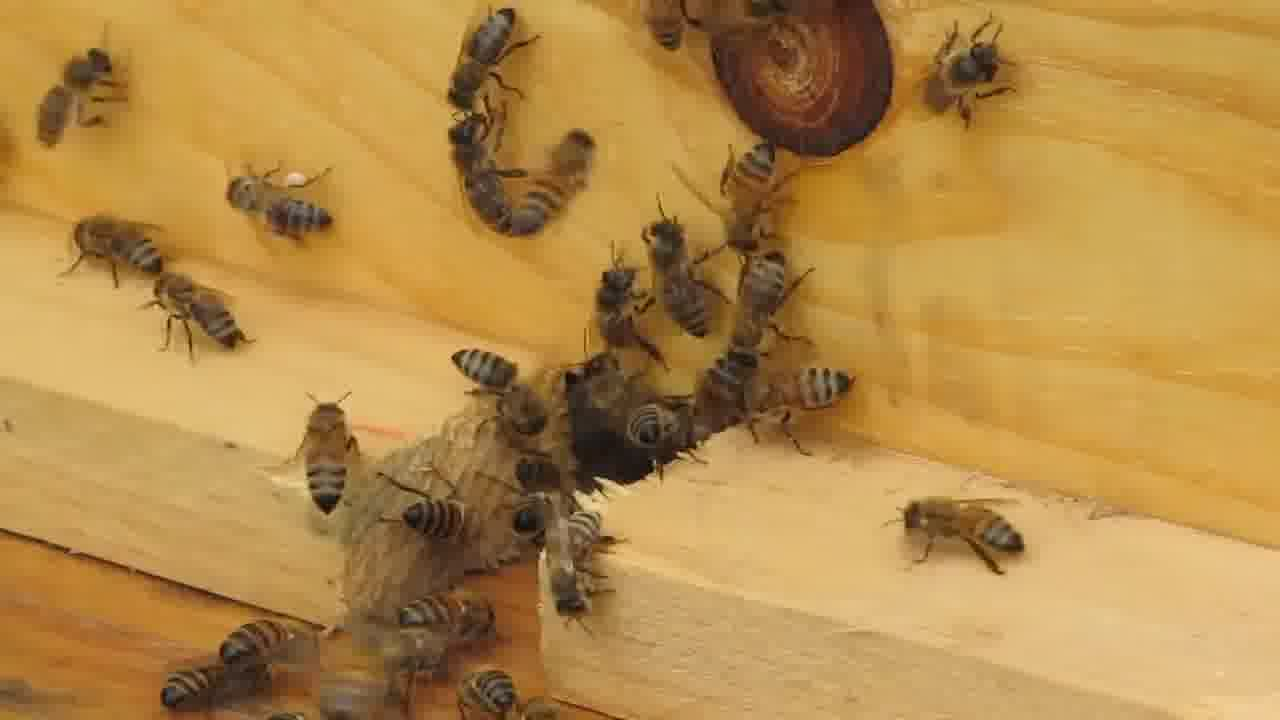pollen: (221, 156, 343, 256)
